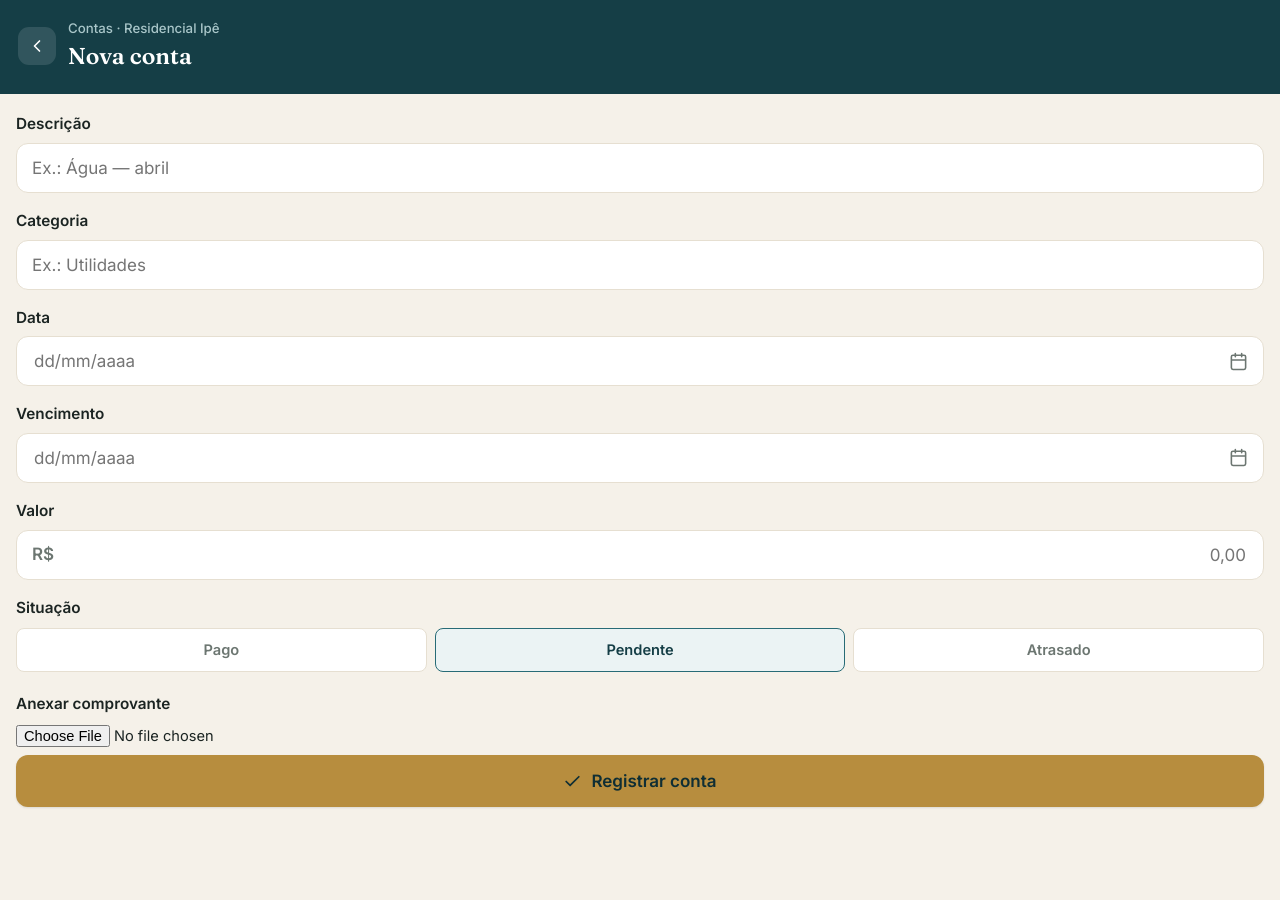
Test: AccountEditScreen › shows a validation error and does not save when the date is invalid
Type "Água — abril" into the field labelled "Descrição" at (640, 168), box [16,143,1264,193]
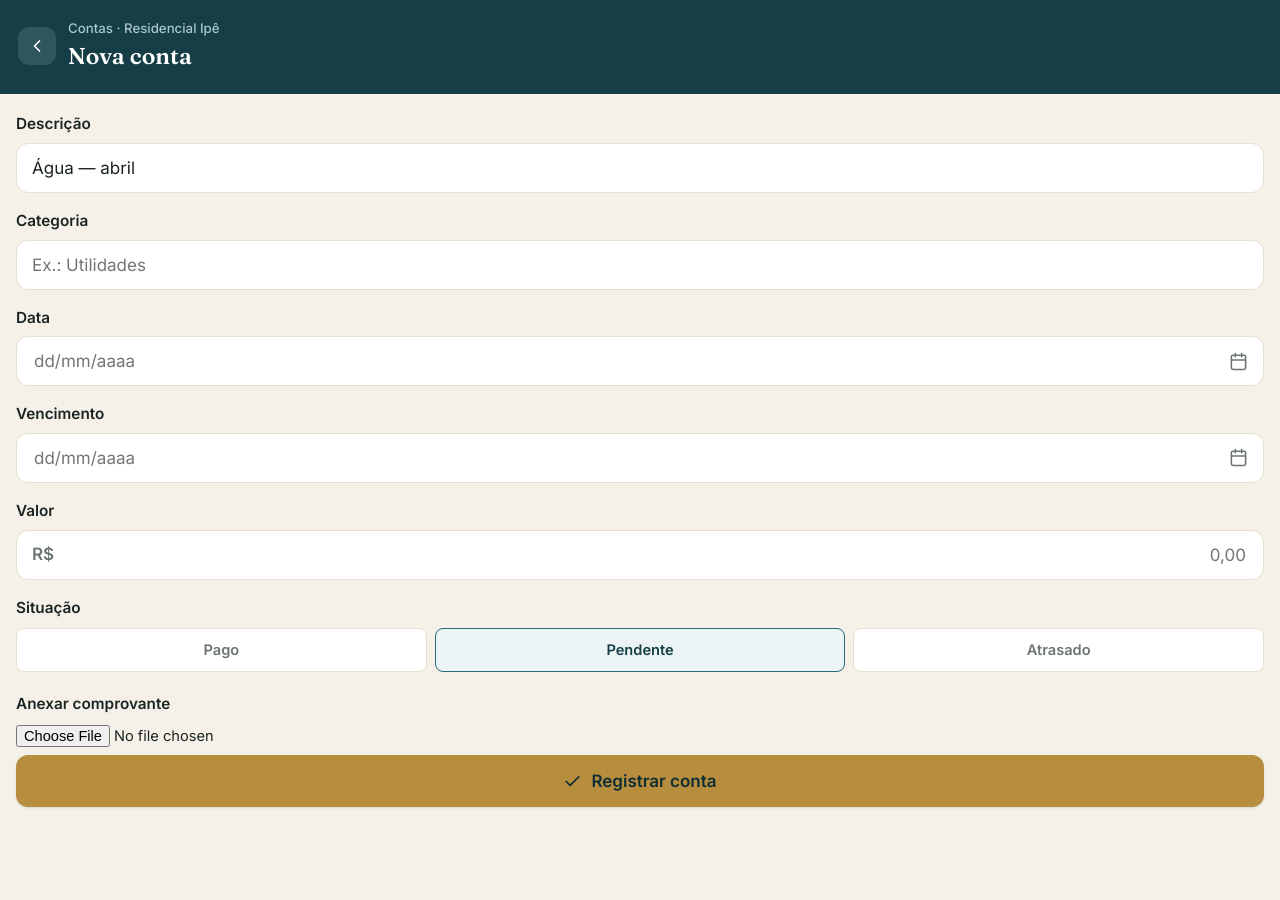
Type "Utilidades" into the field labelled "Categoria" at (640, 264), box [16,240,1264,290]
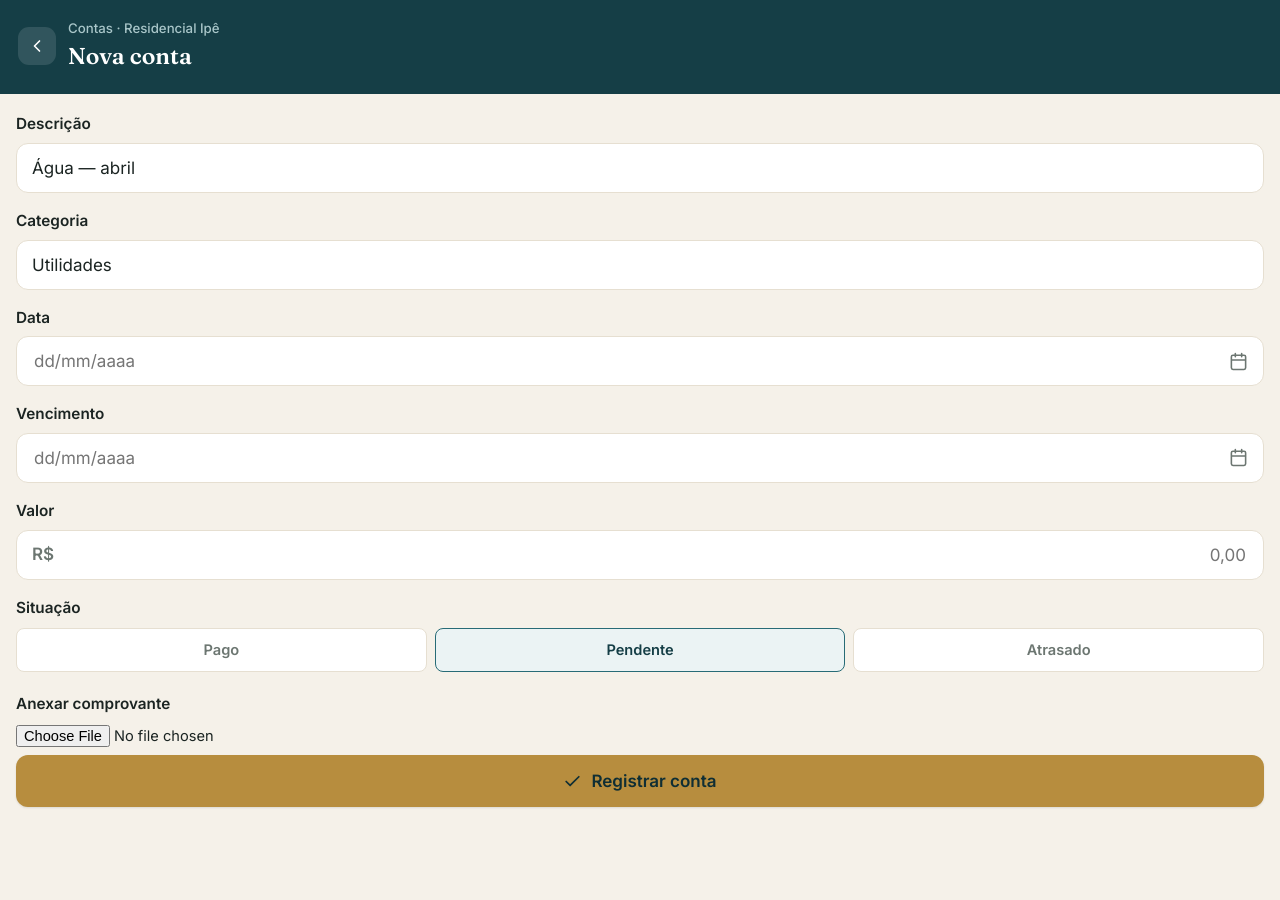
Type "31/02/2026" into the field labelled "Data" at (626, 361), box [32,350,1221,372]
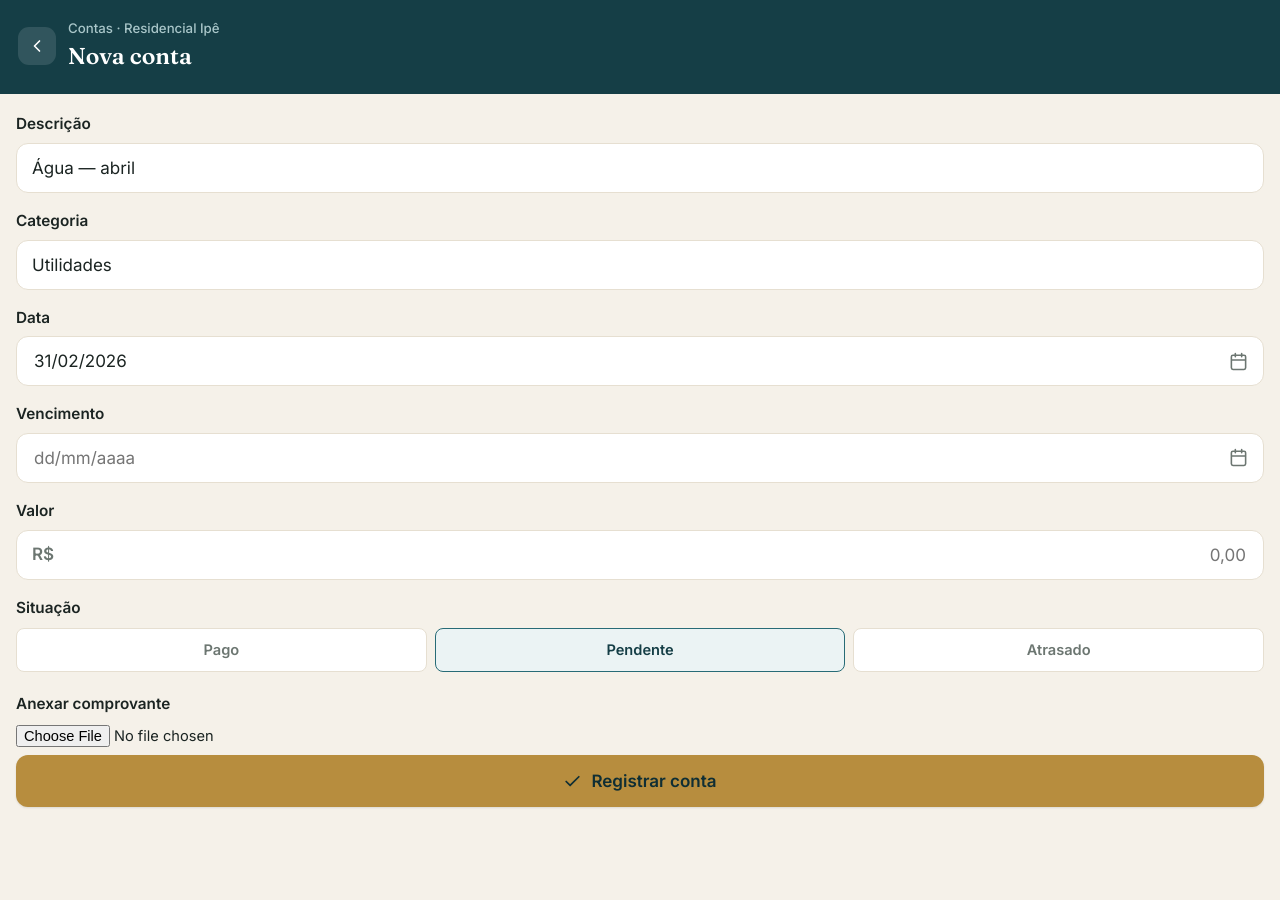
Type "124000" into the field labelled "Valor" at (655, 555), box [62,544,1248,566]
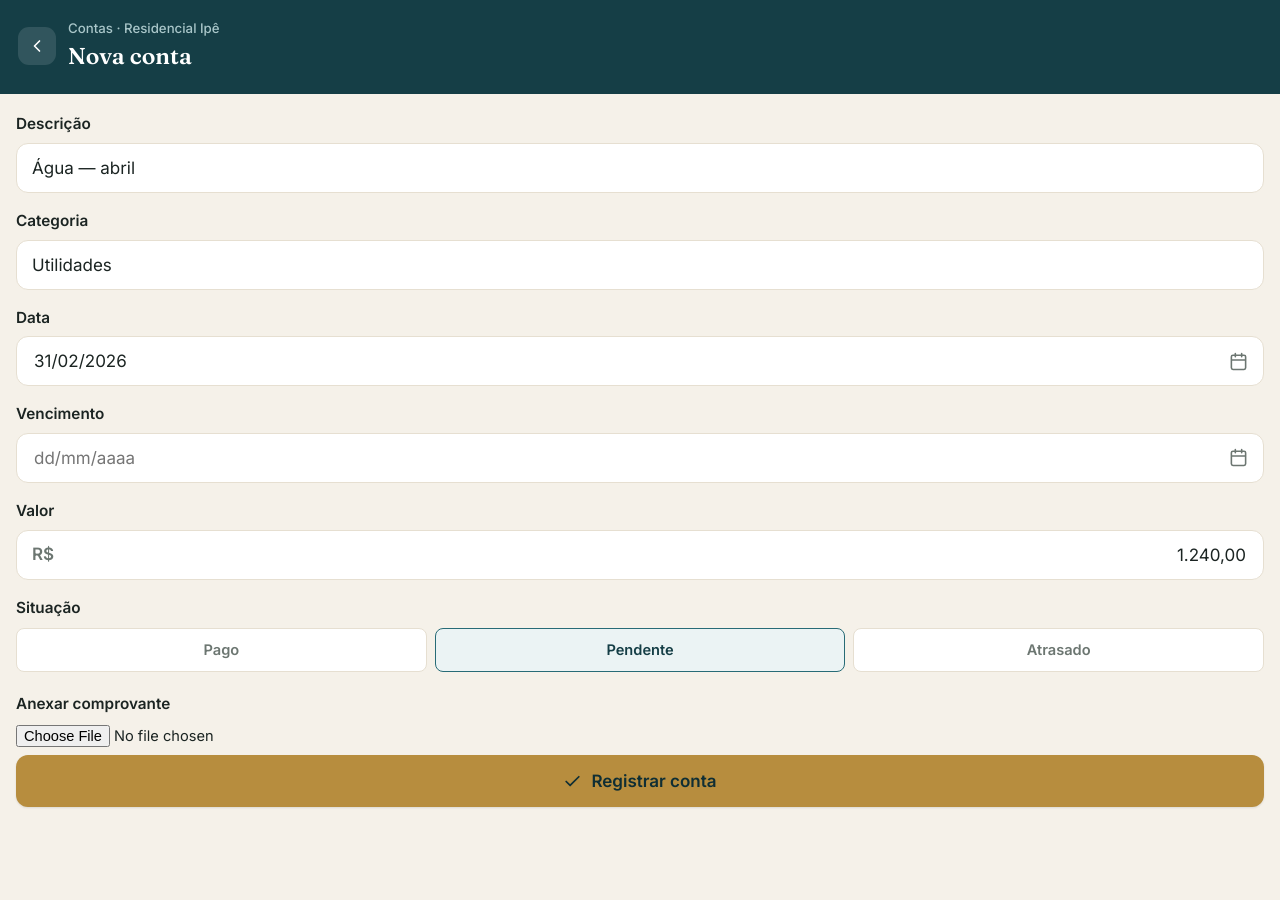
Click the button "Registrar conta" at (640, 781), box [16,755,1264,807]
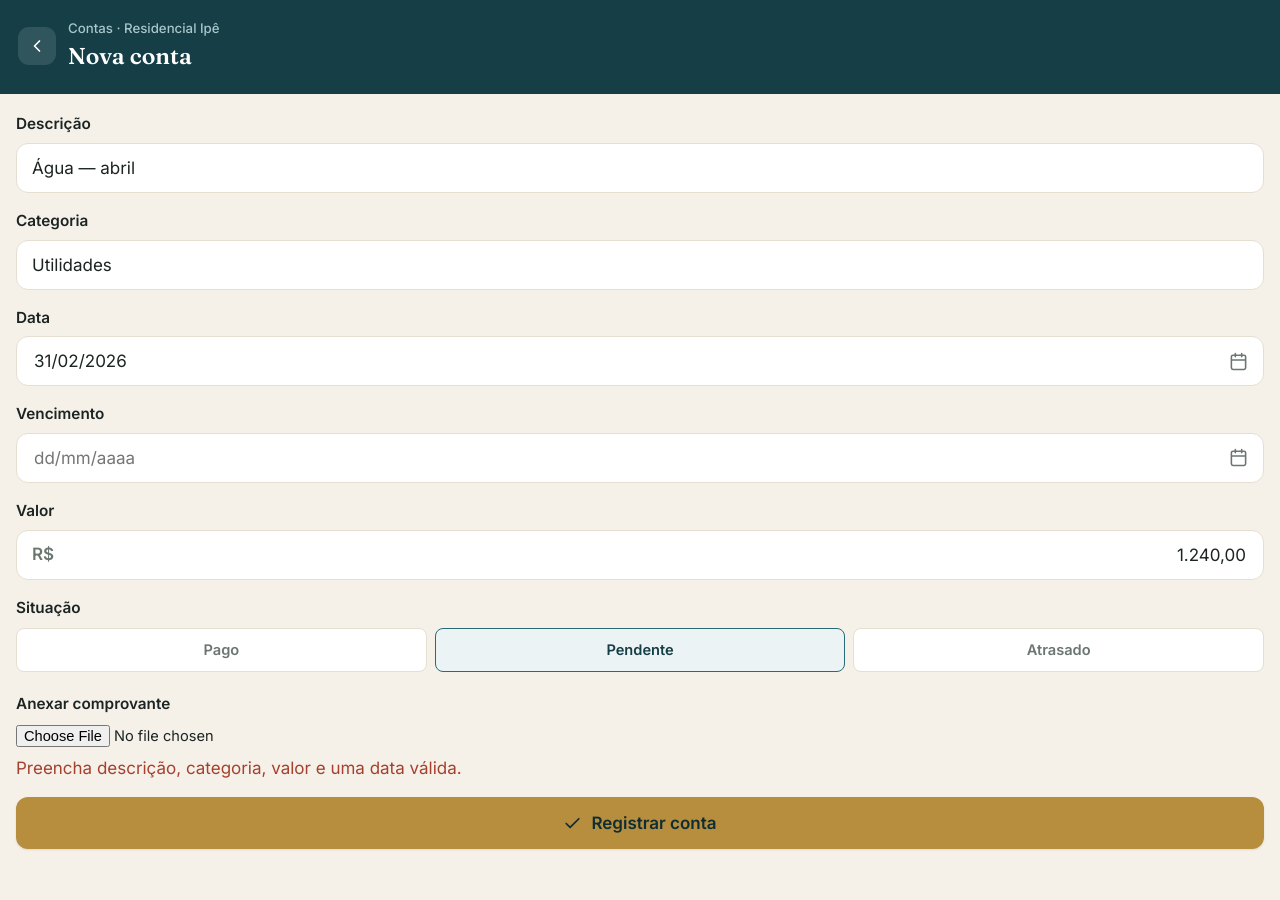
Expected: the message reads "Preencha descrição, categoria, valor e uma data válida.", [16,758,462,778]
